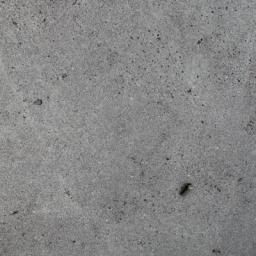FOD: (181, 182, 197, 200)
